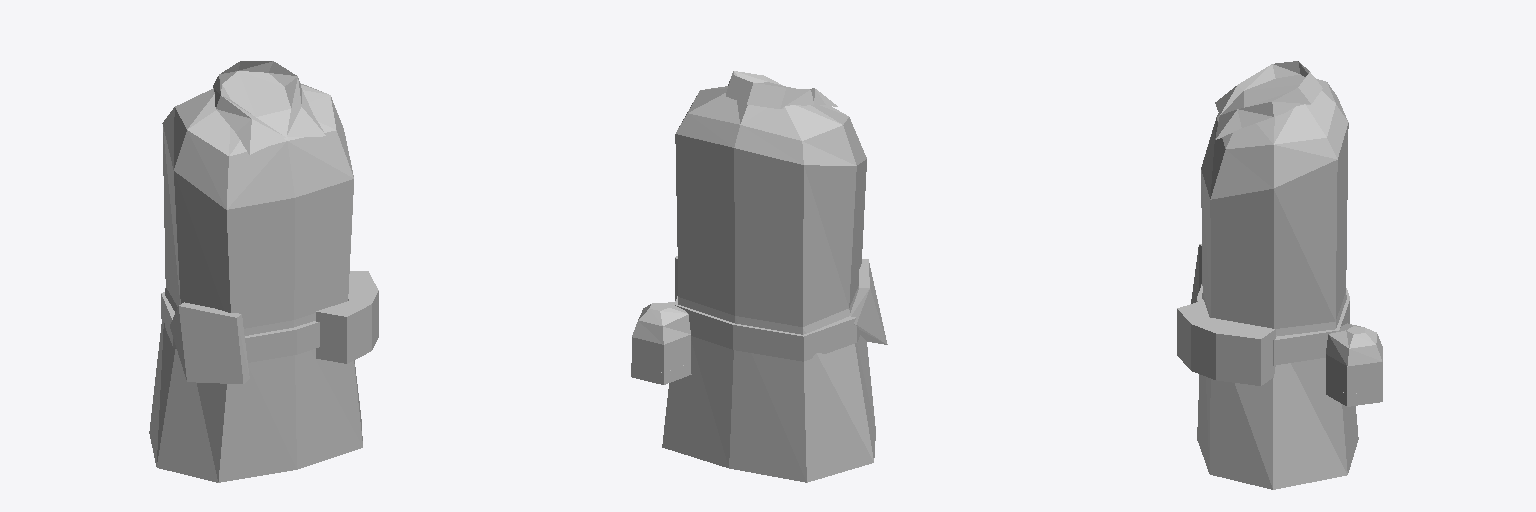
Rendered from torso.obj.
The picture shows the model from 3 angles: view 1: azimuth 30°, elevation 25°; view 2: azimuth 150°, elevation 25°; view 3: azimuth 270°, elevation 25°; orthographic projection.
Parts seen in each view (by area): view 1: g0; view 2: g0; view 3: g0.
Part boxes in pixels (left/top/right/bottom): g0: left=149, top=61, right=378, bottom=482; g0: left=631, top=71, right=887, bottom=482; g0: left=1177, top=61, right=1382, bottom=489.
Size of the model in its own units: 3.53 by 6.04 by 3.06.